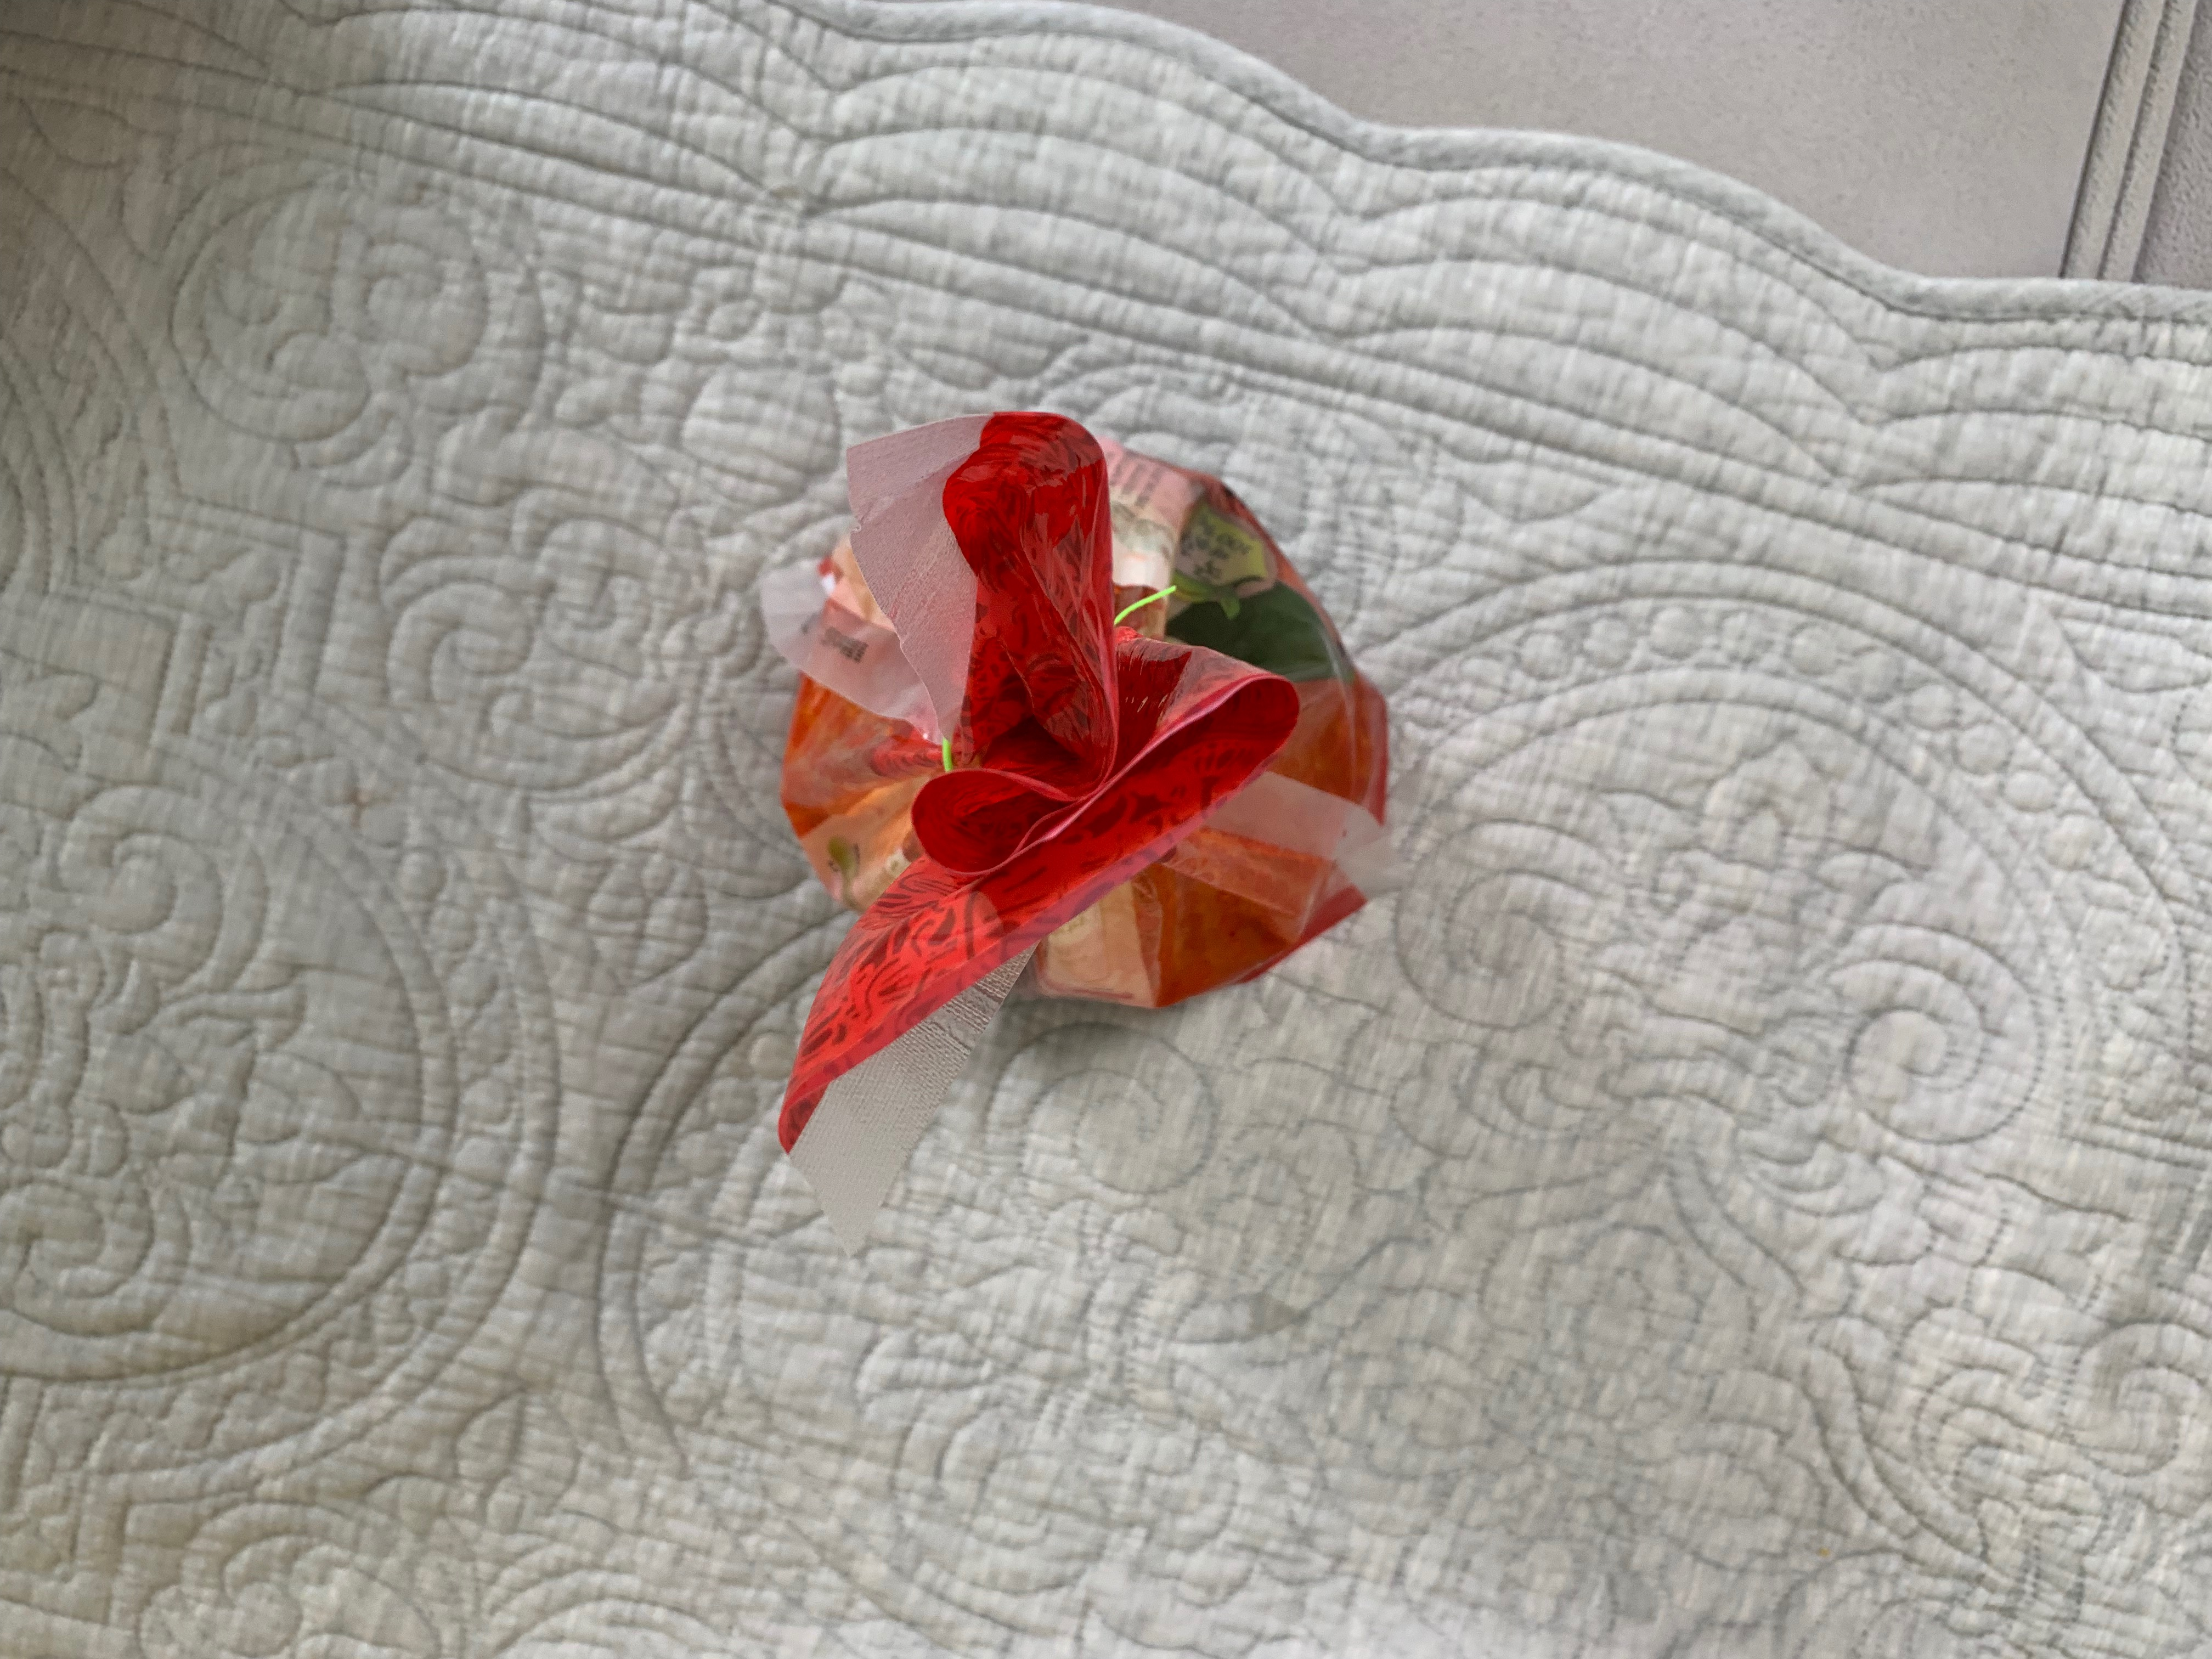kimchi: (782, 410, 1390, 1126)
